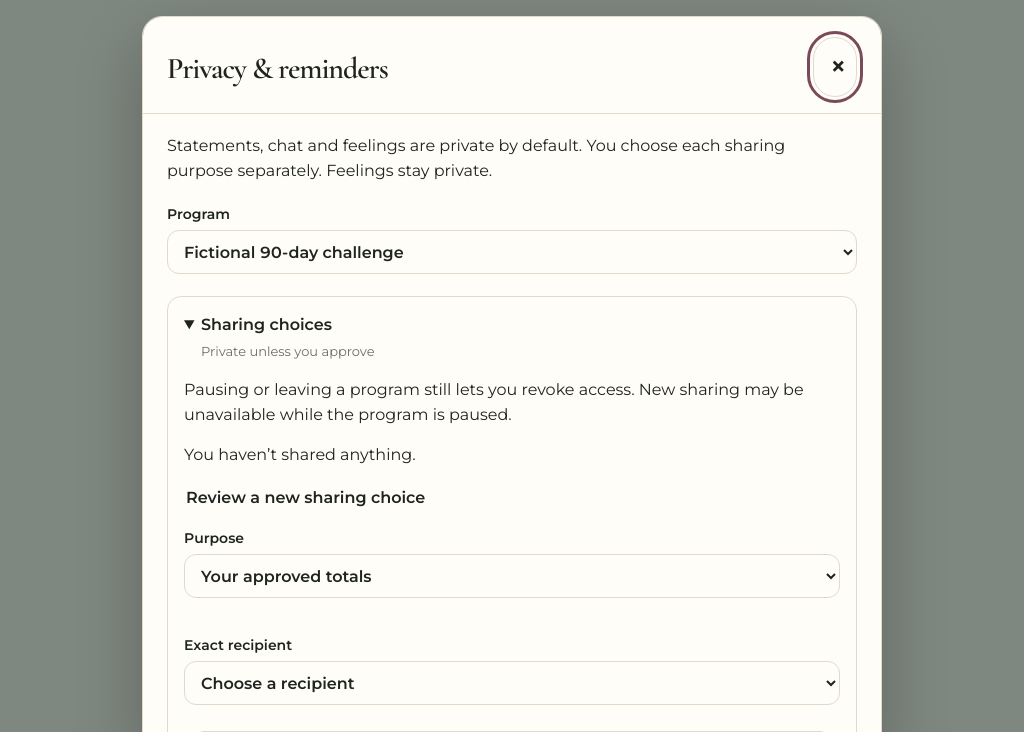
participant privacy help and reminders › names sharing purposes in plain words and keeps each privacy limit
The image size is (1024, 732).
Expected: the text "You haven’t shared anything." is shown, top-left (184, 446), bottom-right (416, 464)
Select "Group totals for the bank (no names, groups of 5 or more)" in the dropdown labelled "Purpose". click: (512, 576)
box: top-left (184, 554), bottom-right (840, 598)
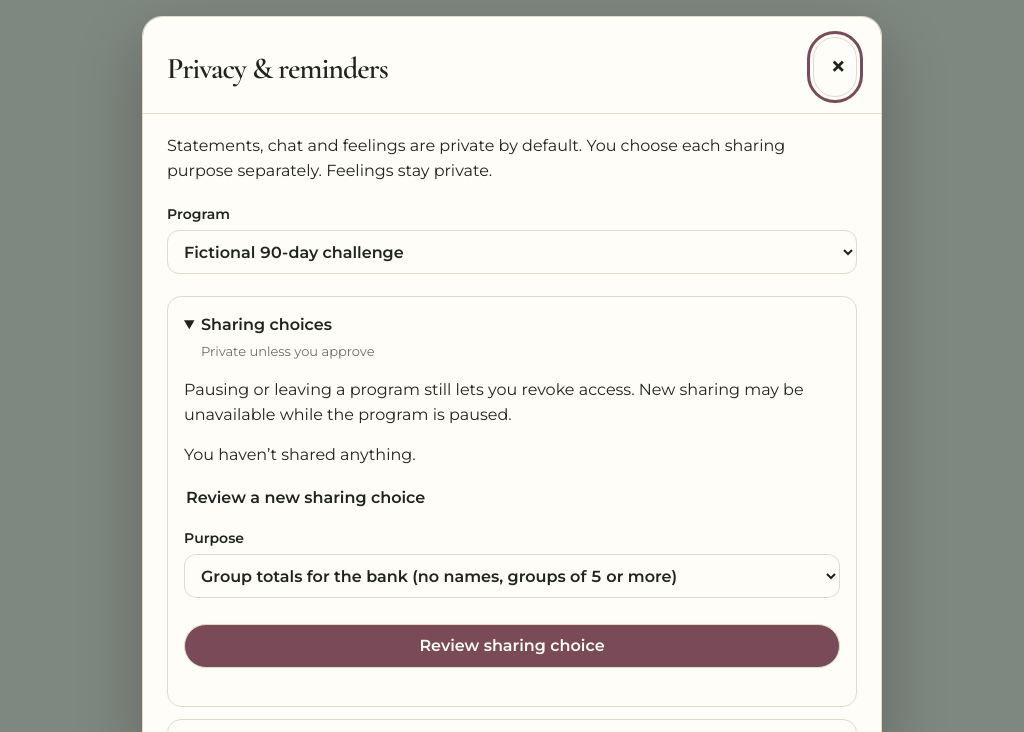
Click the button "Review sharing choice". click: (512, 646)
box: top-left (184, 624), bottom-right (840, 668)
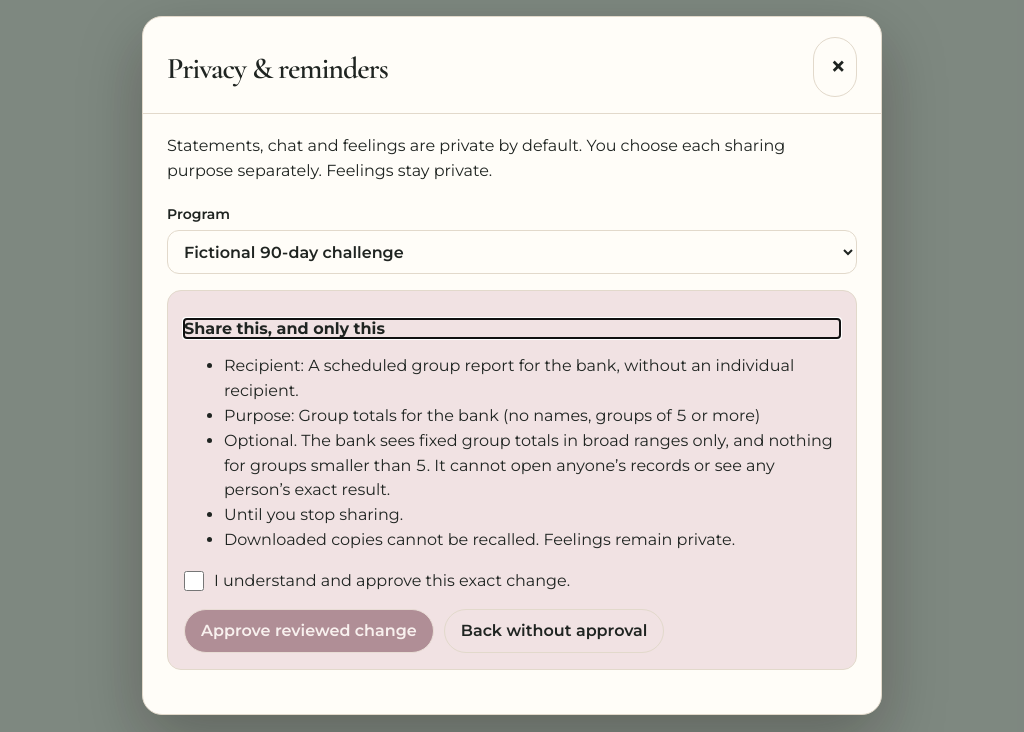
Expected: the text "fixed group totals in broad ranges only" is shown, top-left (224, 431), bottom-right (833, 499)
Expected: the text "nothing for groups smaller than 5" is shown, top-left (224, 431), bottom-right (833, 499)
Expected: the text "cannot open anyone’s records or see any person’s exact result" is shown, top-left (224, 431), bottom-right (833, 499)
